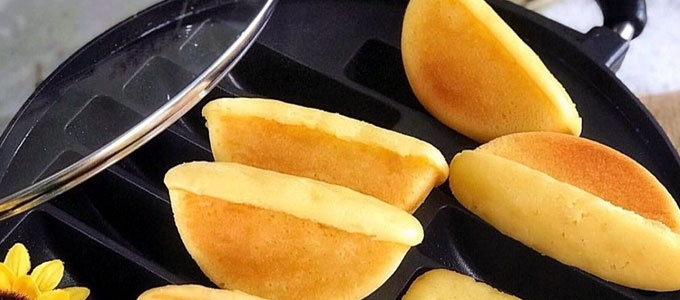pukis: (443, 114, 680, 296), (148, 150, 420, 300)
